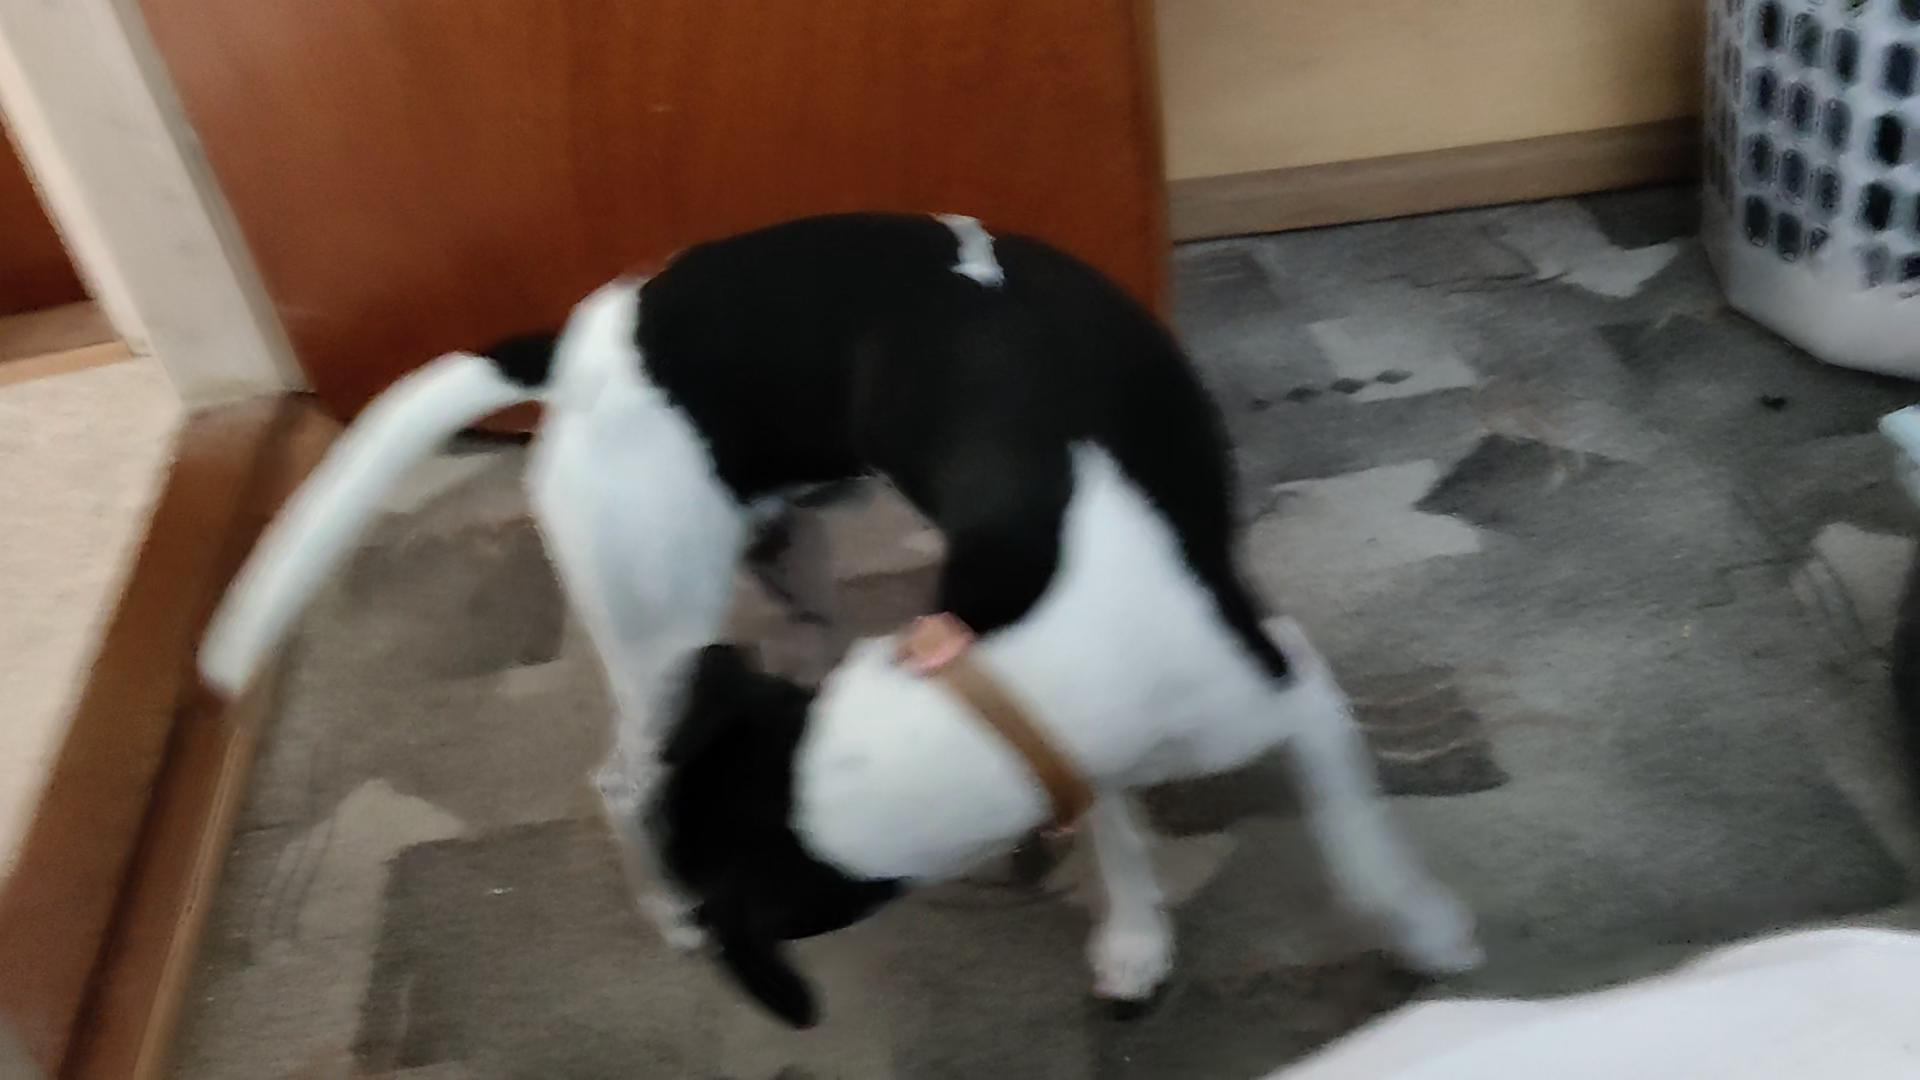Dog: (174, 196, 1495, 1044)
